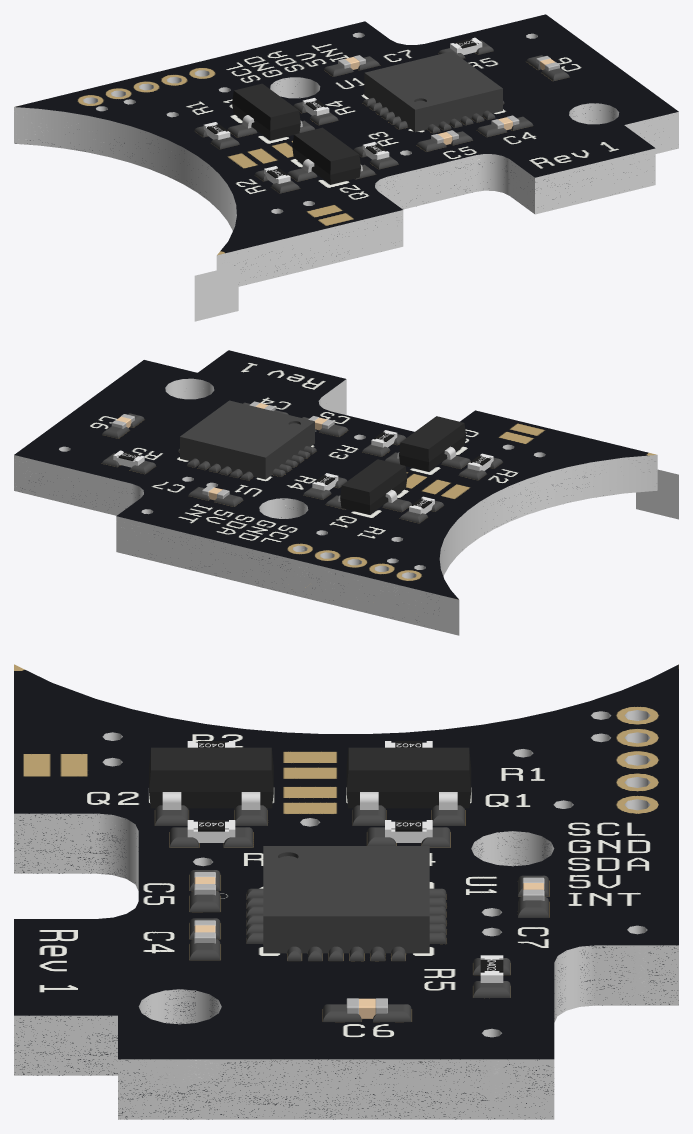
The model's file is encoder.dae.
3 renders of one model, top to bottom at view 1: azimuth 30°, elevation 25°; view 2: azimuth 150°, elevation 25°; view 3: azimuth 270°, elevation 25°, orthographic. The views are drawn at different scales.
Parts seen in each view (by area): view 1: PCB, U1, SOT-23-DEFAULT (×2), node1273; view 2: PCB, U1, SOT-23-DEFAULT (×2), node1273; view 3: PCB, U1, SOT-23-DEFAULT (×2), User_Library-RES_1005-0402 (×3), C6.
Boxes of the visible parts, <box> form: PCB: <box>14,14,678,291</box>; U1: <box>364,51,502,132</box>; SOT-23-DEFAULT (×2): <box>232,83,362,184</box>; node1273: <box>194,265,238,321</box>; PCB: <box>14,350,657,635</box>; U1: <box>180,400,314,479</box>; SOT-23-DEFAULT (×2): <box>338,416,465,514</box>; node1273: <box>636,469,678,519</box>; PCB: <box>14,664,678,1119</box>; U1: <box>263,846,429,953</box>; SOT-23-DEFAULT (×2): <box>149,747,471,809</box>; User_Library-RES_1005-0402 (×3): <box>187,820,503,982</box>; C6: <box>346,998,387,1018</box>.
Bounding box in the file's own units: 23.5 × 3.9 × 16.
Materials: 22 (2 with a texture image).
